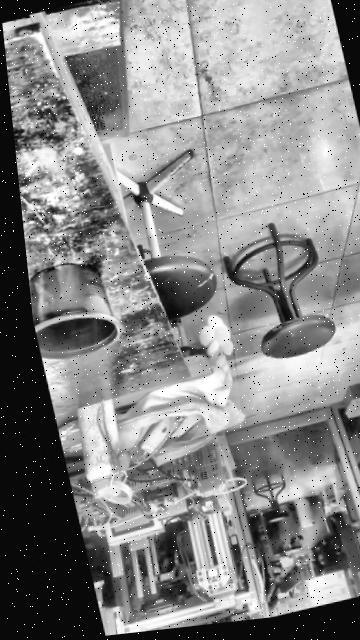pot: (27, 254, 123, 364)
